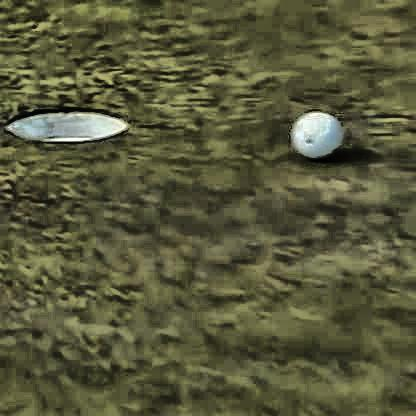golfball: (287, 105, 341, 159)
